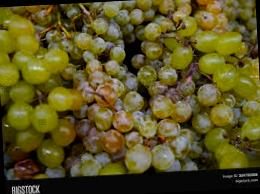Grape Rotten: (0, 0, 260, 180), (0, 2, 86, 171)
